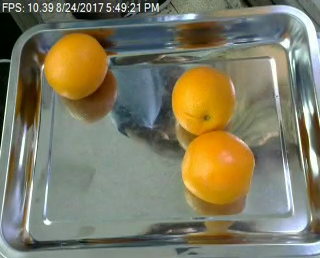Orange: (180, 131, 255, 204), (170, 65, 237, 135), (44, 31, 110, 99)
